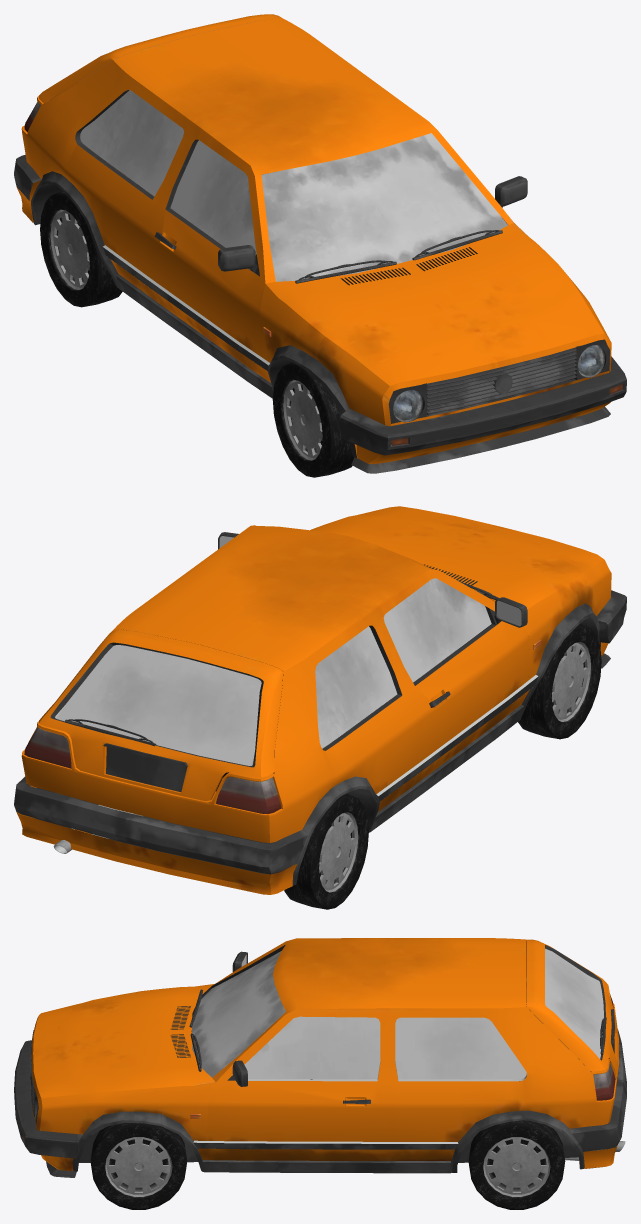
File: volkswagen-golf-ii.glb
3 views of the same model, one above another, from view 1: azimuth 30°, elevation 25°; view 2: azimuth 150°, elevation 25°; view 3: azimuth 270°, elevation 25° (orthographic). The views are drawn at different scales.
Visible parts, largest first — view 1: Object_6, Object_9, Object_7, Object_11, Object_10, Object_3, Object_4; view 2: Object_6, Object_9, Object_7, Object_11, Object_10, Object_3, Object_4, Object_5; view 3: Object_6, Object_9, Object_7, Object_11, Object_10, Object_4, Object_3, Object_2.
Boxes of the visible parts, x1,y1,x2,y2 form: Object_6: [16, 14, 611, 464]; Object_9: [80, 23, 507, 281]; Object_7: [14, 90, 626, 473]; Object_11: [40, 191, 354, 477]; Object_10: [50, 209, 322, 460]; Object_3: [24, 102, 622, 445]; Object_4: [103, 245, 391, 445]; Object_6: [16, 506, 611, 894]; Object_9: [55, 578, 491, 765]; Object_7: [14, 532, 626, 885]; Object_11: [284, 623, 601, 909]; Object_10: [319, 641, 590, 892]; Object_3: [24, 640, 540, 814]; Object_4: [40, 675, 538, 853]; Object_5: [219, 536, 521, 625]; Object_6: [31, 938, 618, 1170]; Object_9: [192, 948, 603, 1079]; Object_7: [14, 945, 626, 1177]; Object_11: [90, 1120, 565, 1209]; Object_10: [105, 1137, 550, 1196]; Object_4: [193, 1033, 625, 1160]; Object_3: [22, 993, 615, 1140]; Object_2: [191, 942, 584, 1081].
Size of the model in its own units: 2.94 by 2.13 by 6.25.
10 materials, 9 textured.
